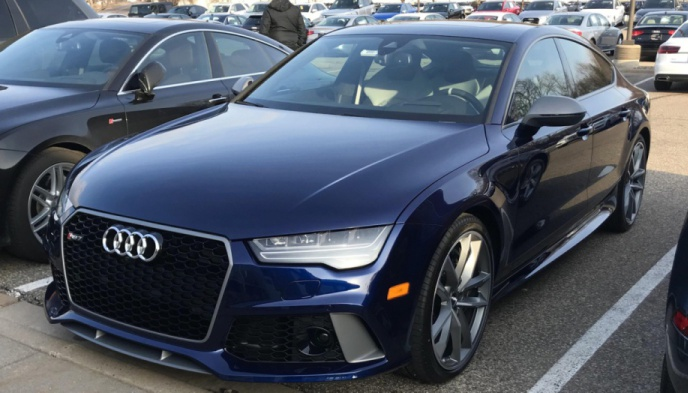audi: (100, 224, 165, 269)
